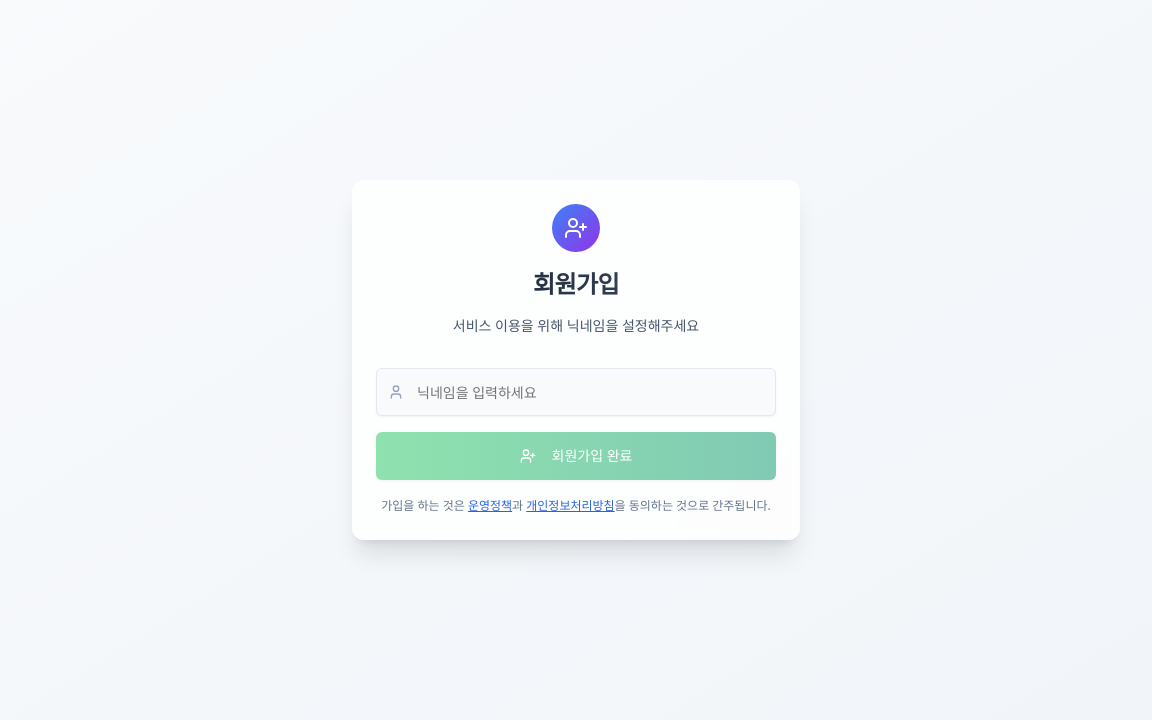
Auth › renders only the stable registration error in the existing Modal
This screenshot has width=1152, height=720.
Type "테스터" into the field with placeholder "닉네임을 입력하세요" at (576, 392), box [376,368,776,416]
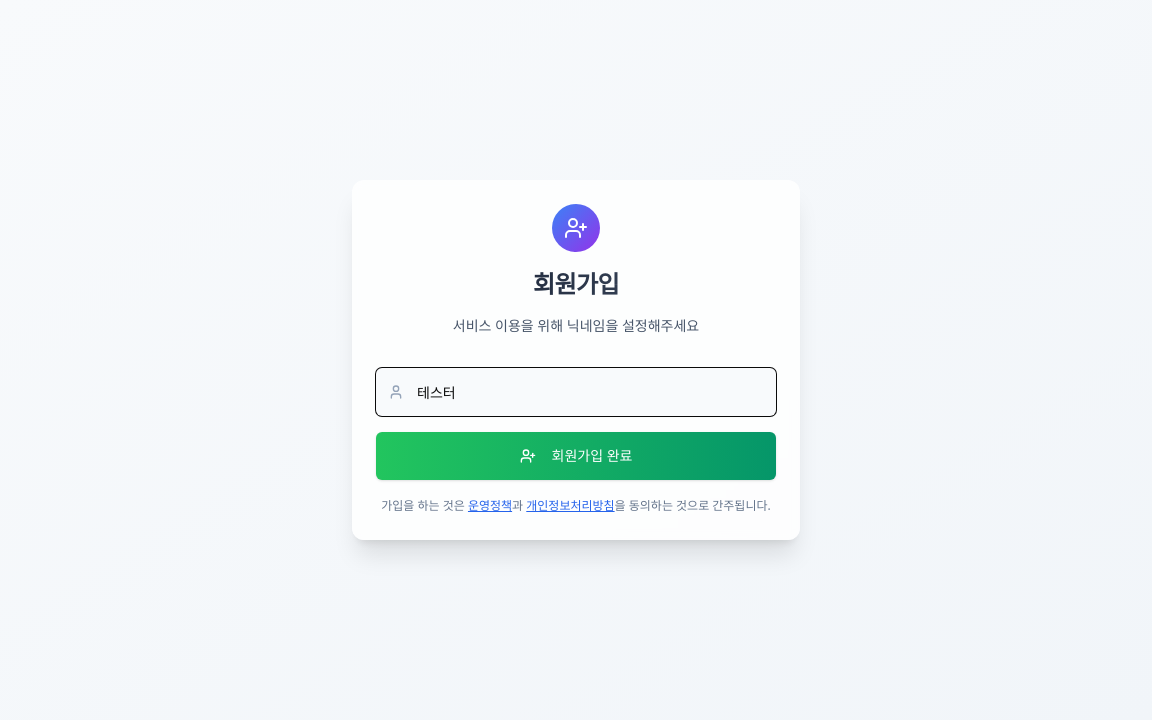
Click the button "회원가입 완료" at (576, 456), box [376,432,776,480]
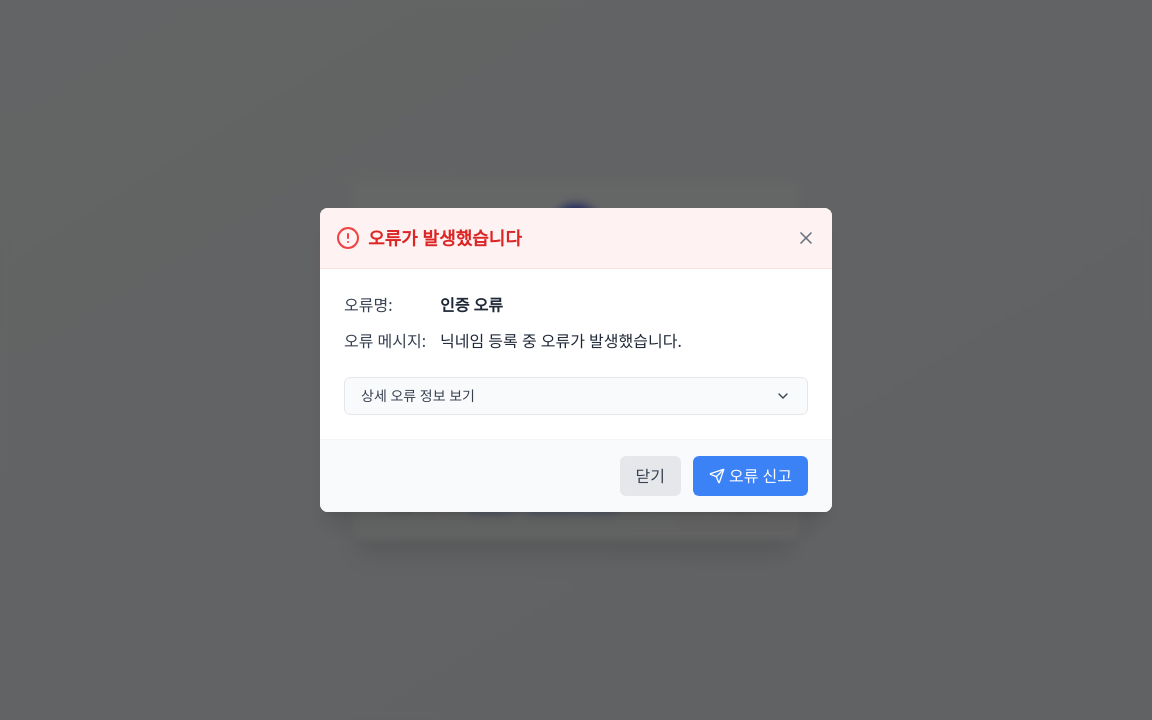
Expected: the text "닉네임 등록 중 오류가 발생했습니다." is shown, [440,329,682,353]
